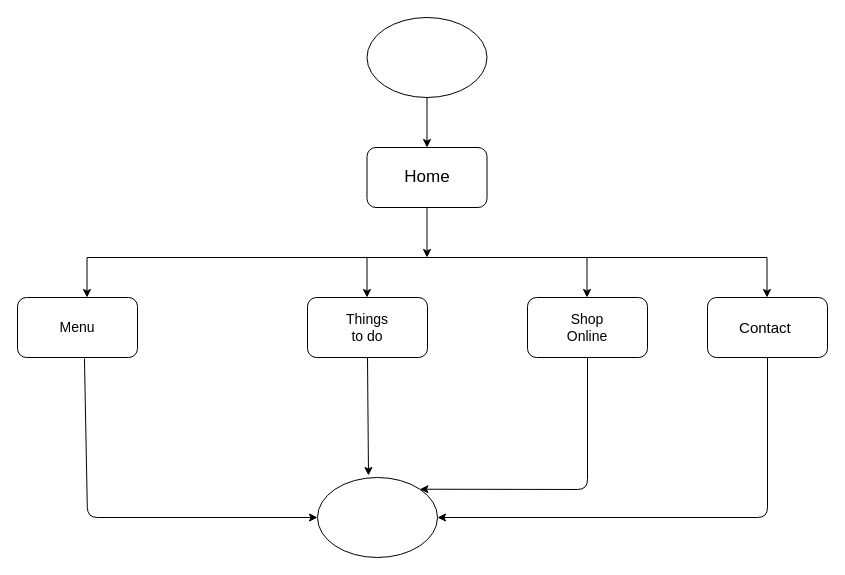
Image size: 845x575. Some labels were removed from this diagram. The shapes that lost their labels are listed below. From the top down, each one's centre as x and y in pixels, then its label:
the point at 426,57: START
the point at 377,517: END
